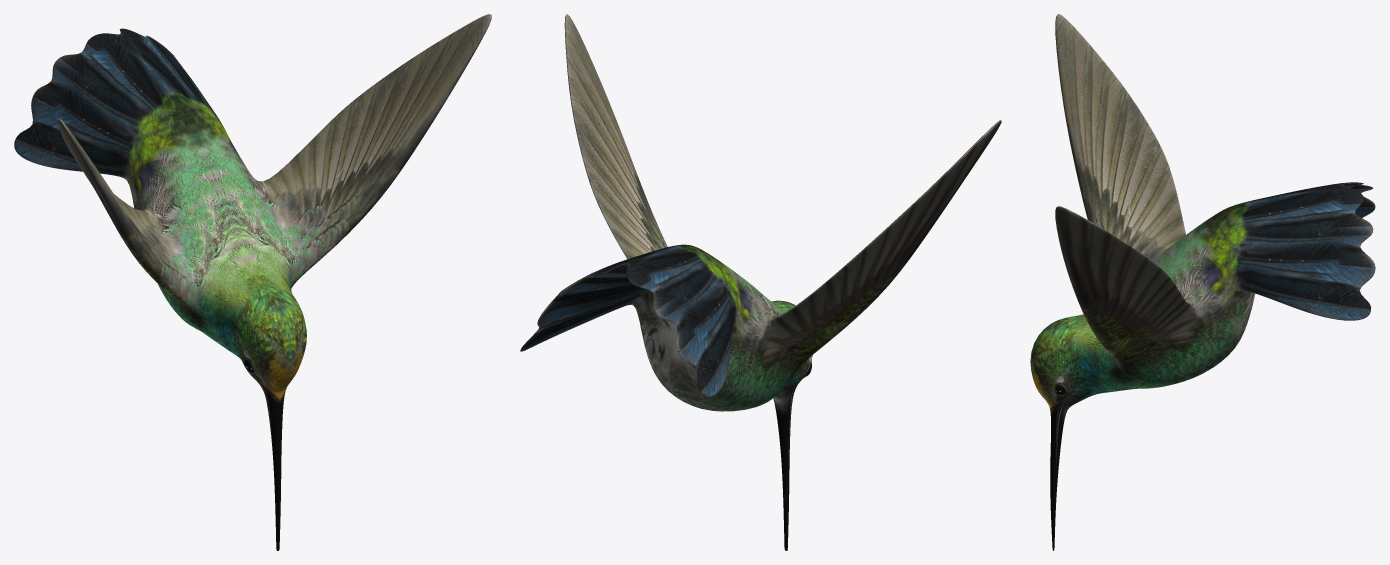
Rendered from 10027_Hummingbird_v1_iterations-2.obj.
3 views of the same model, side by side, from view 1: azimuth 30°, elevation 25°; view 2: azimuth 150°, elevation 25°; view 3: azimuth 270°, elevation 25° (orthographic). The views are drawn at different scales.
Parts seen in each view (by area): view 1: Hummingbird; view 2: Hummingbird; view 3: Hummingbird.
Part boxes in pixels (bbox=[...]): Hummingbird: bbox=[14, 14, 491, 550]; Hummingbird: bbox=[520, 14, 1001, 550]; Hummingbird: bbox=[1030, 14, 1375, 550].
Bounding box in the file's own units: 16.44 × 17.53 × 12.44.
Materials: 1 (1 with a texture image).
